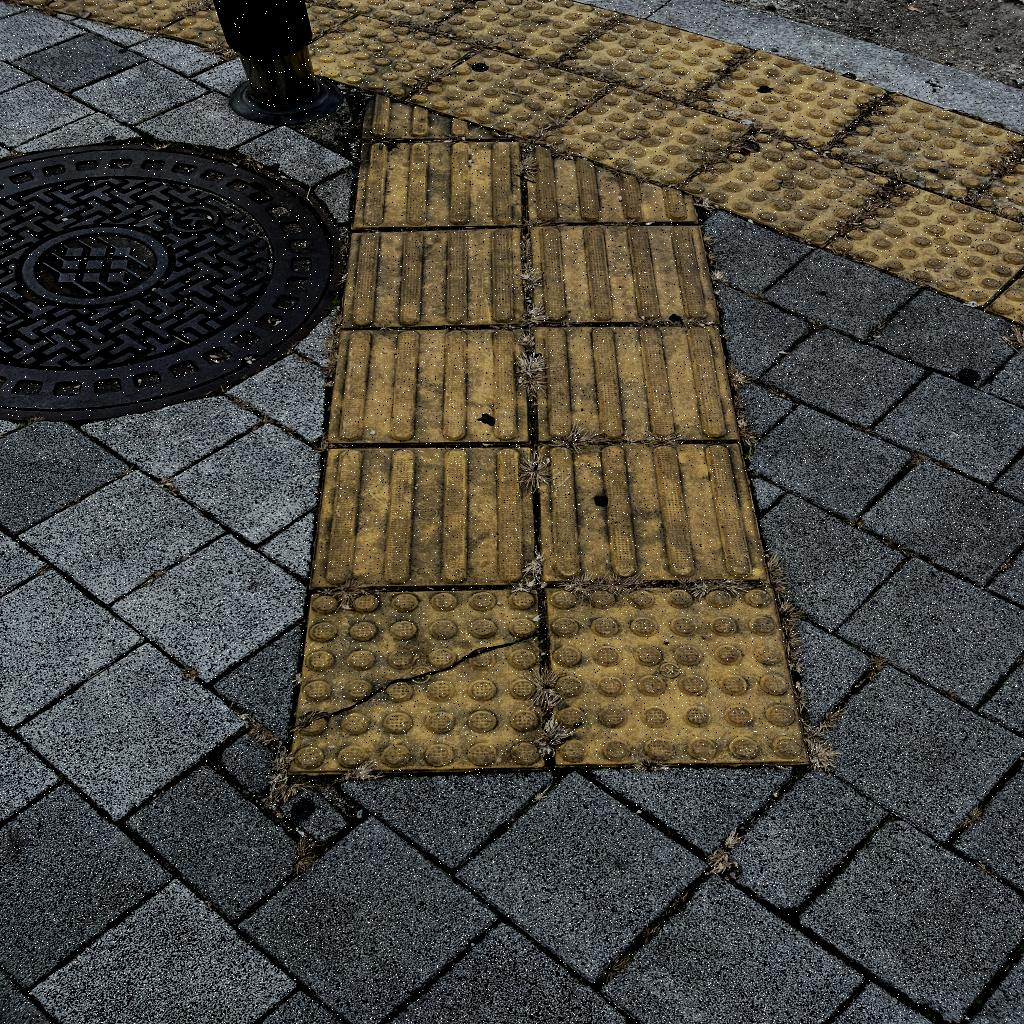Stop block broken: (288, 590, 542, 770)
Stop block normal: (554, 590, 775, 764)
Straight block normal: (329, 450, 527, 582), (544, 450, 736, 577), (537, 328, 718, 440), (342, 332, 523, 443), (534, 227, 704, 322), (352, 236, 520, 325), (360, 143, 520, 225)
